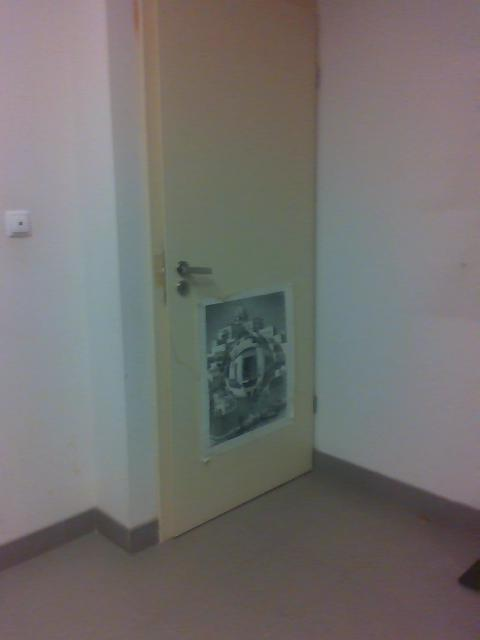door: (148, 1, 316, 546)
